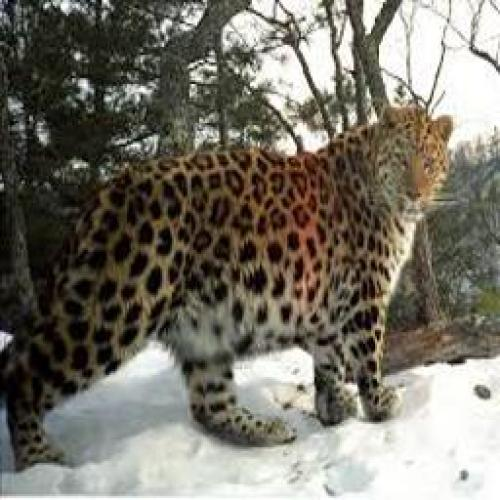amur_leopard-endangered: (0, 101, 460, 465)
